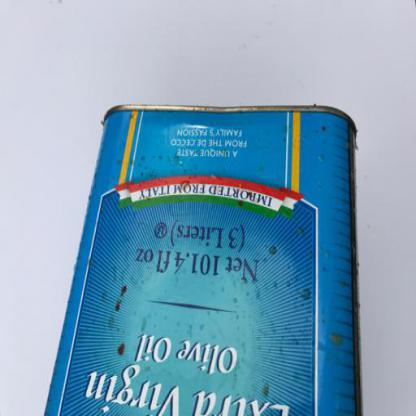Compsot: (42, 103, 364, 415)
